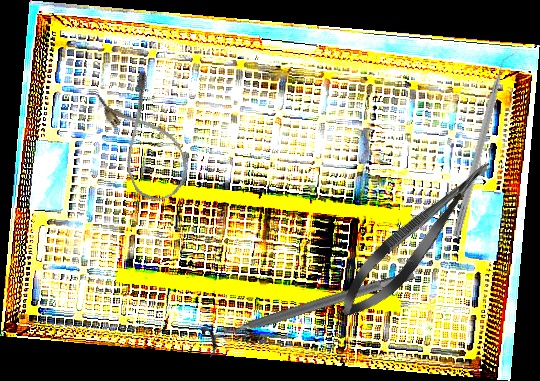Cannula: (94, 70, 197, 208)
Chopper: (452, 47, 520, 241)
Fixation Ring: (199, 258, 420, 359)
Micro Scissor: (328, 148, 505, 329)
